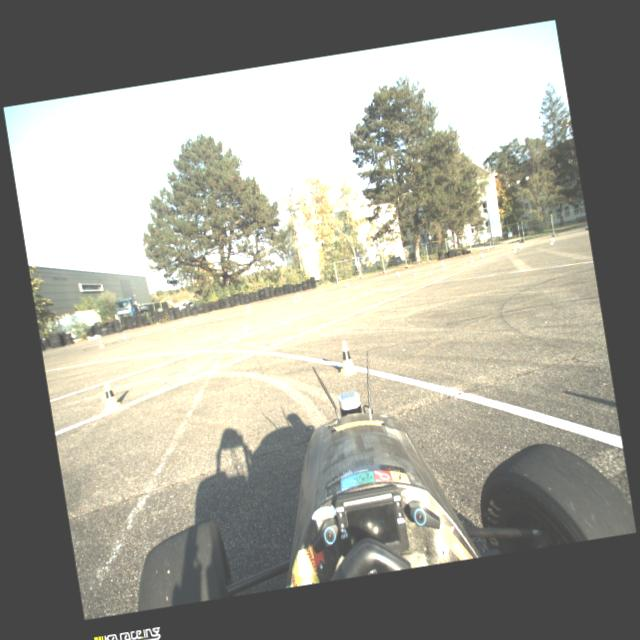blue_cone: (121, 332, 128, 340), (184, 318, 189, 326), (396, 271, 400, 277), (480, 252, 484, 258), (248, 304, 251, 311), (518, 244, 522, 249), (346, 282, 349, 288), (441, 260, 444, 266), (296, 294, 300, 298)
yellow_cone: (334, 339, 358, 377), (98, 379, 123, 412), (292, 294, 298, 304), (98, 338, 104, 348), (171, 323, 177, 331), (244, 306, 250, 314), (511, 246, 517, 253), (549, 238, 554, 245), (354, 281, 358, 289), (412, 269, 417, 275), (470, 255, 474, 262)
